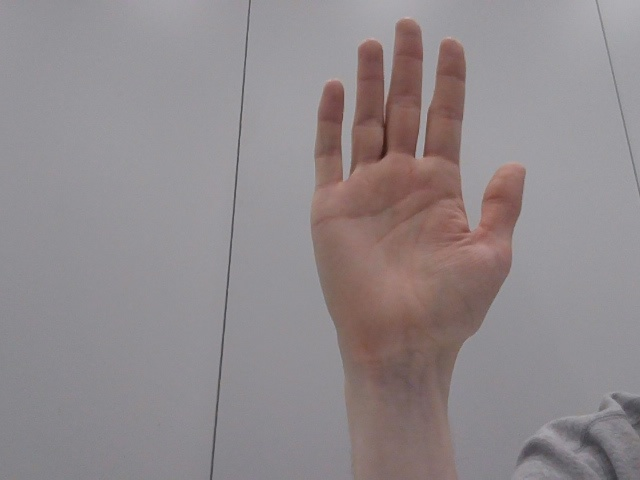nada: (270, 7, 560, 375)
